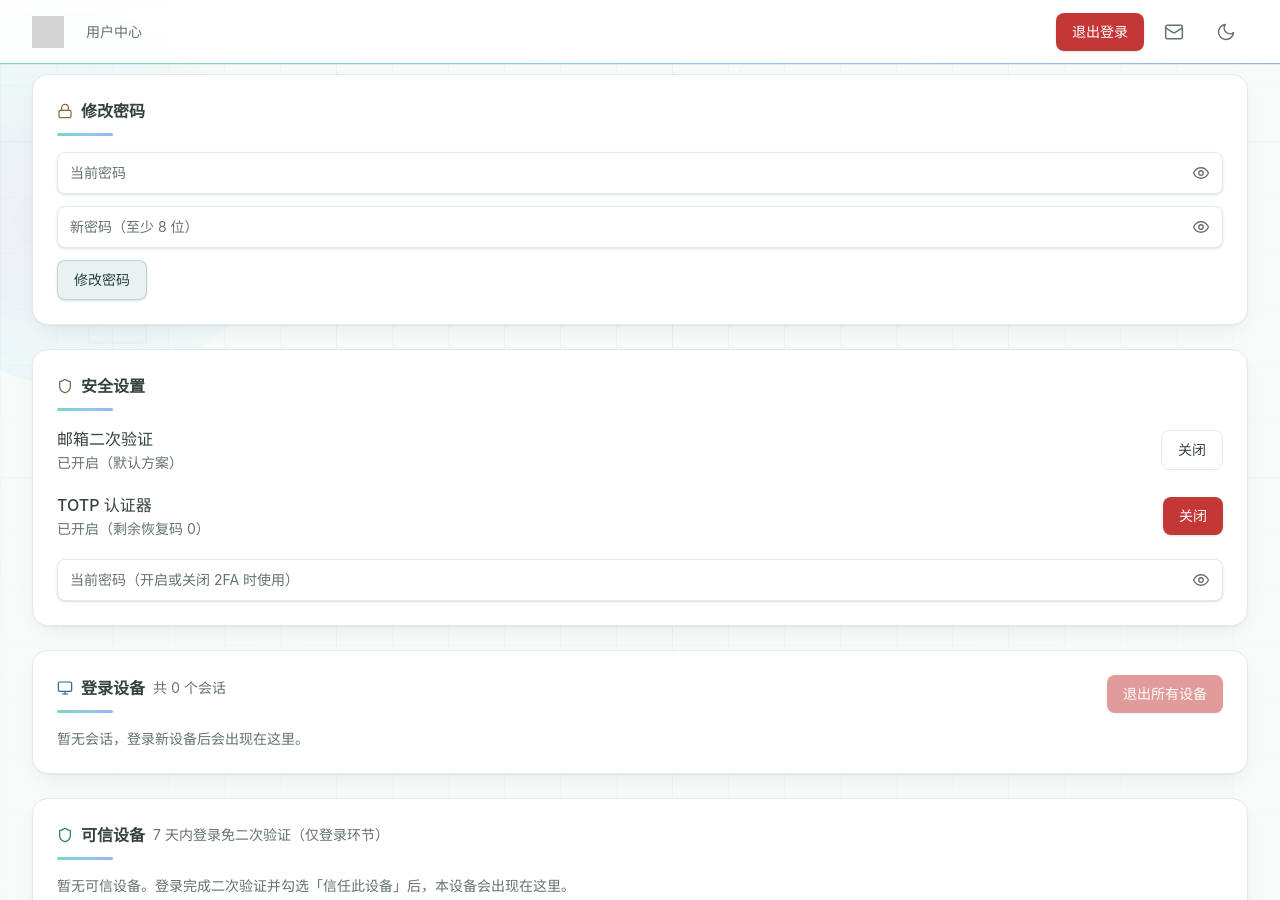
DashboardPage 2FA › step-up 窗口内关闭邮箱 2FA 无需再次输入密码
(page scrolled)
Expected: the text "已开启（默认方案）" is shown, [57,453,183,473]
Click the button with aria-label "关闭邮箱二次验证" at [1192, 450], box [1161,430,1223,470]
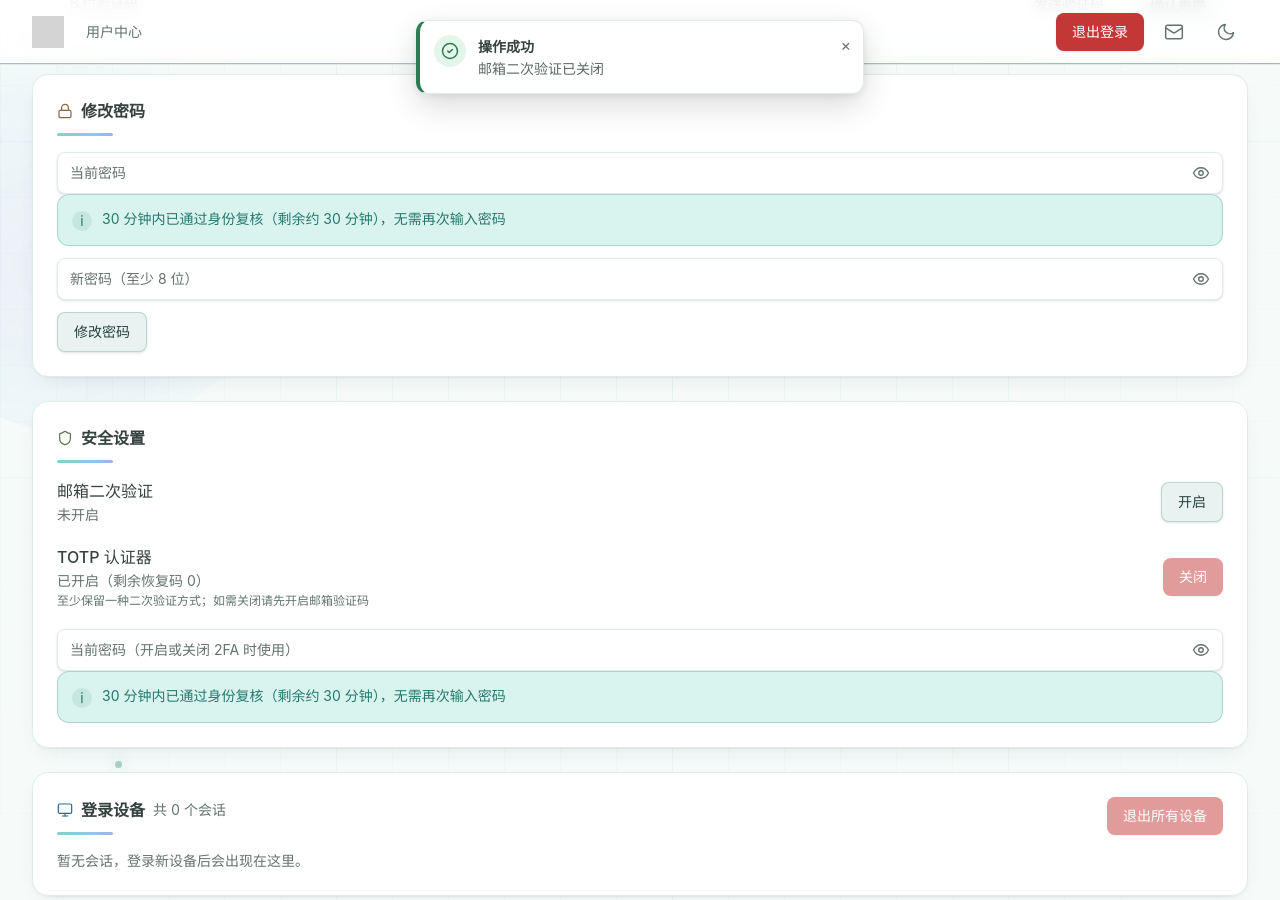
Expected: the text "未开启" is shown, [57,506,99,523]
